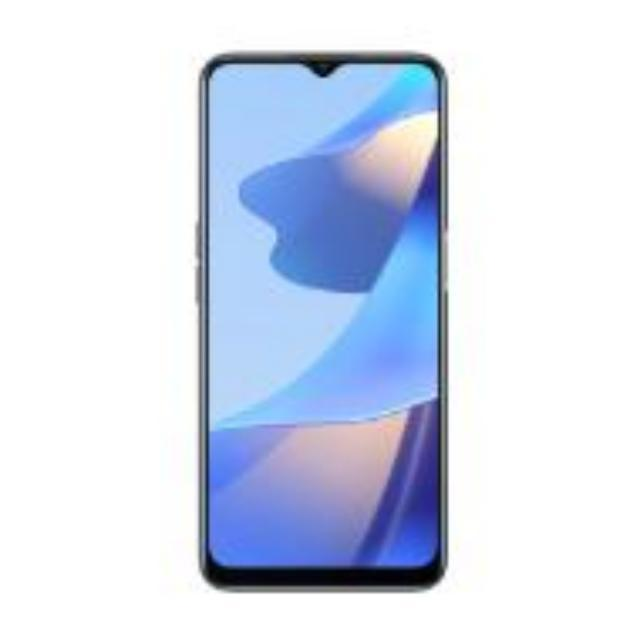phone: (190, 44, 460, 602)
